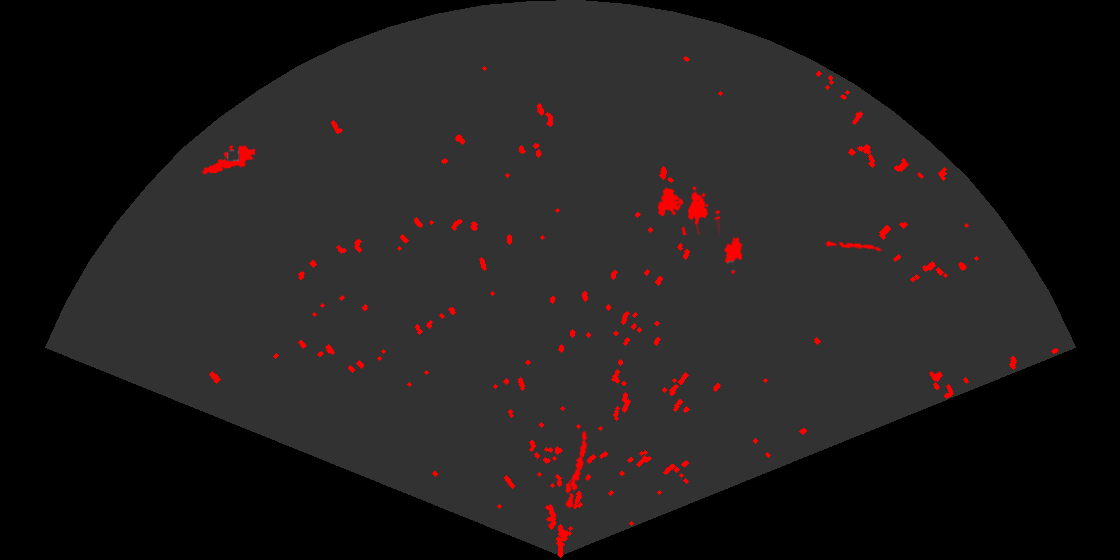AUV: (722, 235, 744, 276)
cage: (656, 184, 720, 235)
chain: (564, 429, 589, 512), (825, 239, 883, 253)
frogman: (201, 143, 255, 176)
